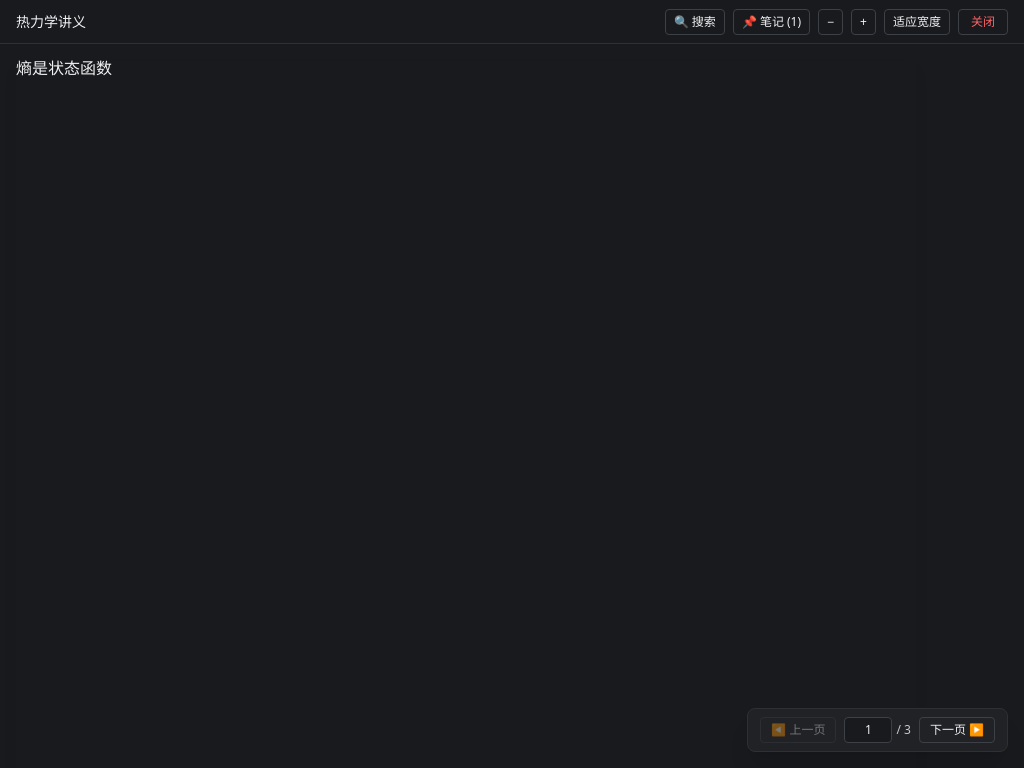
PdfReaderView — edge paths › cancels note editing and closes the notes panel
Click the button titled "阅读批注（选中文本后可用高亮 / 笔记）".
click(771, 22)  # box x1=733 y1=8 x2=810 y2=34
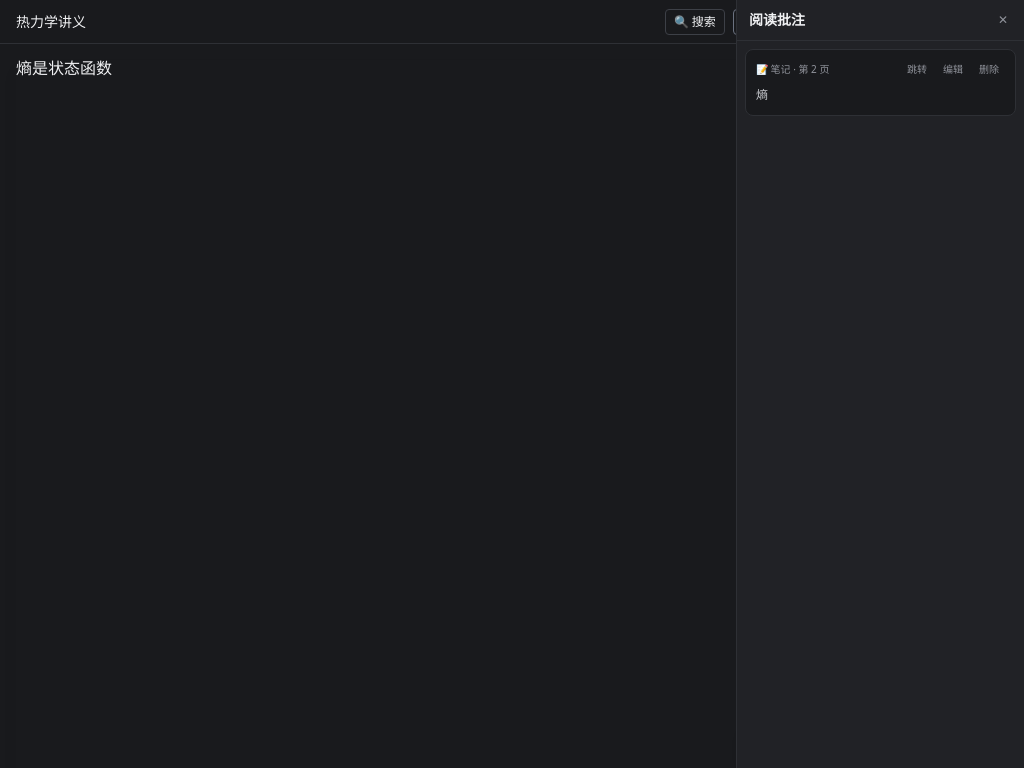
Click the button "编辑".
click(953, 70)  # box x1=937 y1=60 x2=969 y2=79
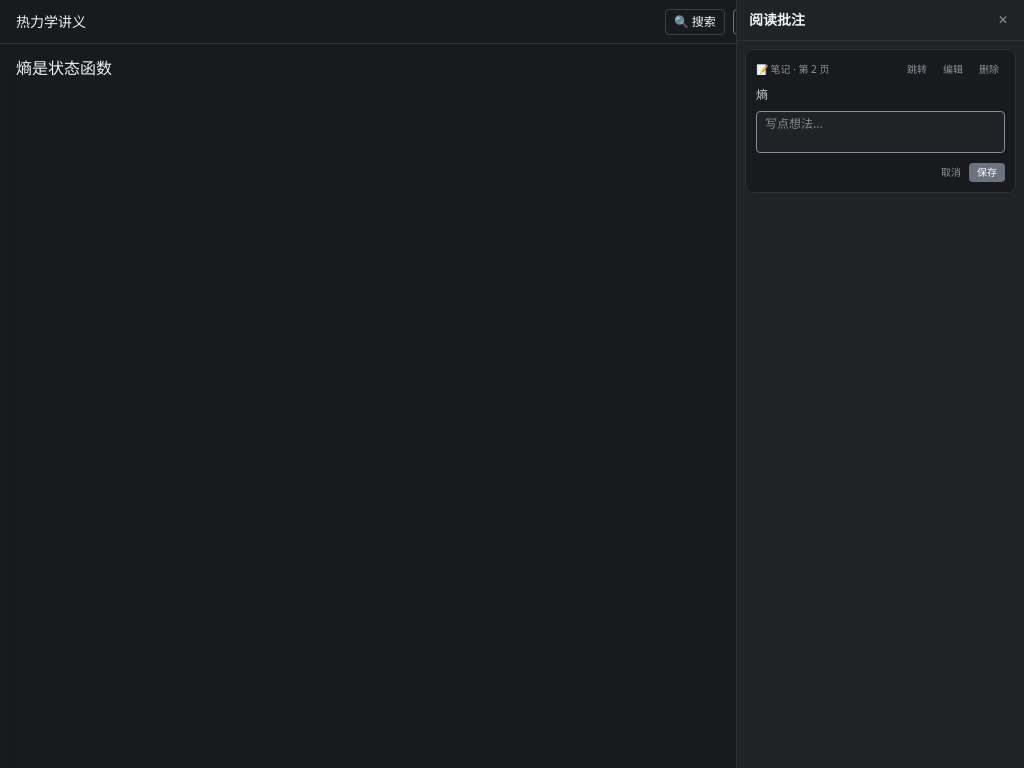
Result: the text box with placeholder "写点想法..." is shown at x1=756 y1=110 x2=1005 y2=152
Click the button "取消".
click(951, 172)  # box x1=941 y1=162 x2=961 y2=182
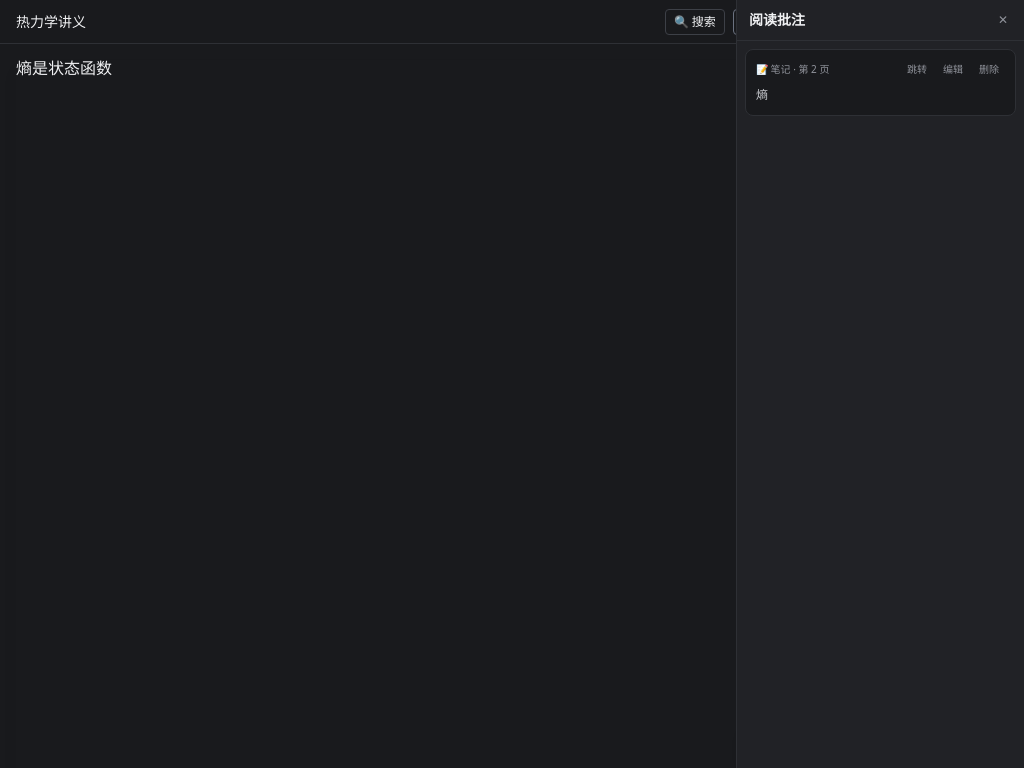
Result: the text box with placeholder "写点想法..." is gone
Click the button "✕".
click(1003, 20)  # box x1=994 y1=8 x2=1012 y2=32
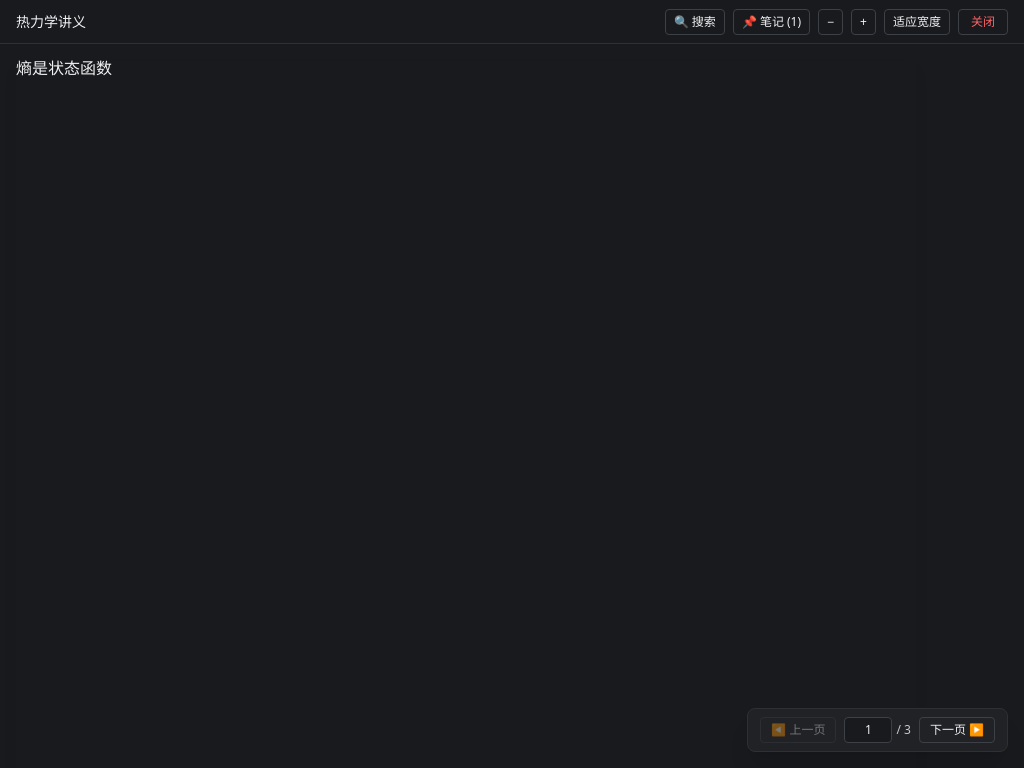
Result: the text "阅读批注" is gone
